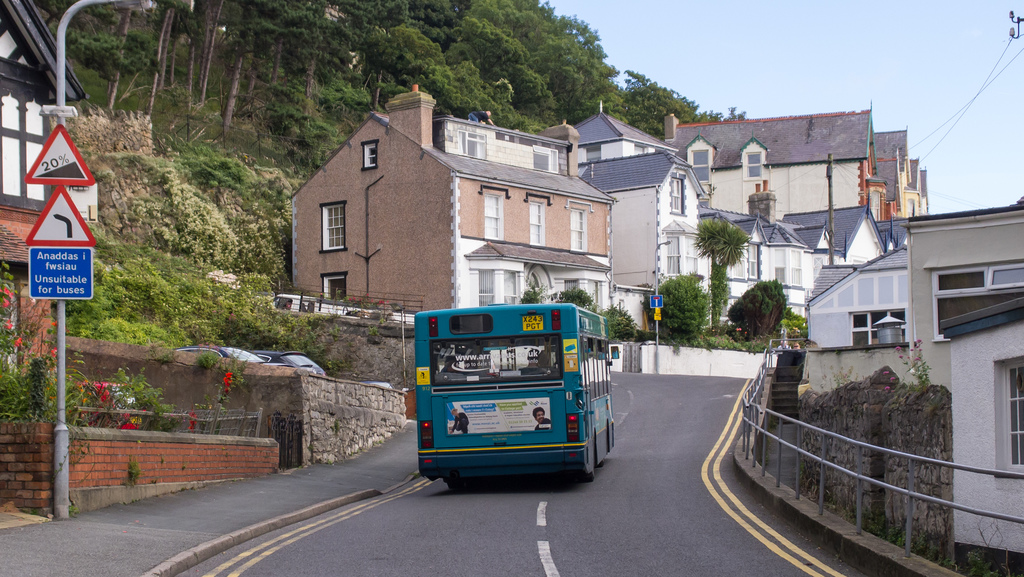Bus: (407, 298, 622, 480)
